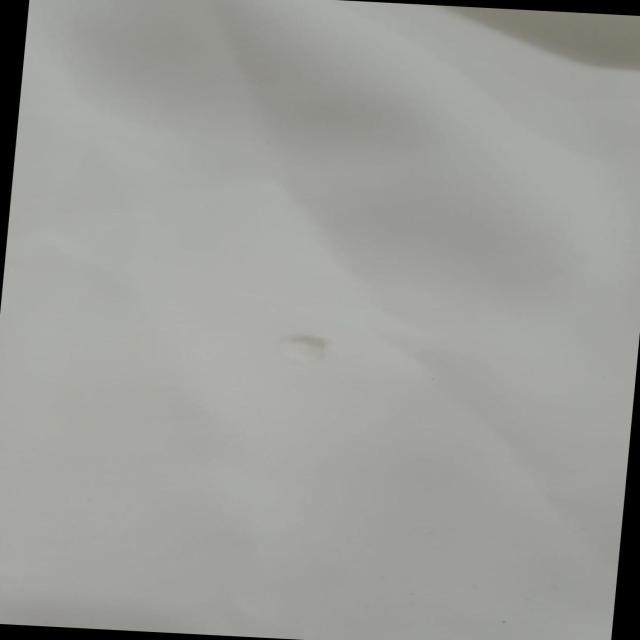stain: (264, 325, 340, 367)
